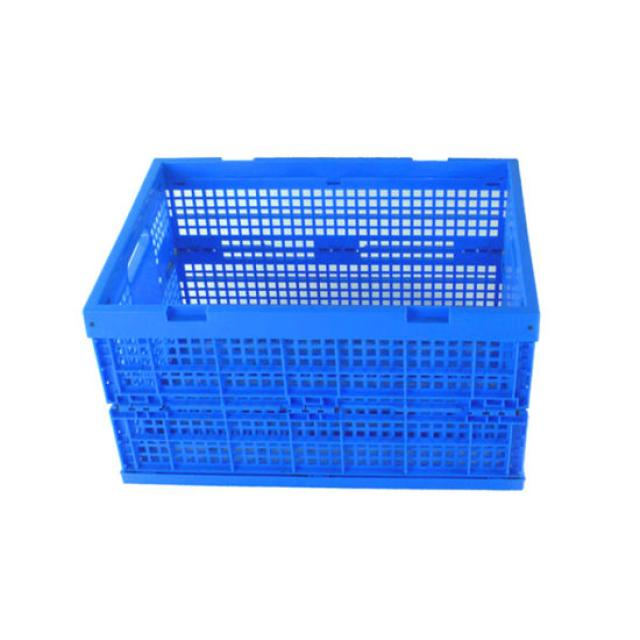basket: (82, 157, 541, 489)
